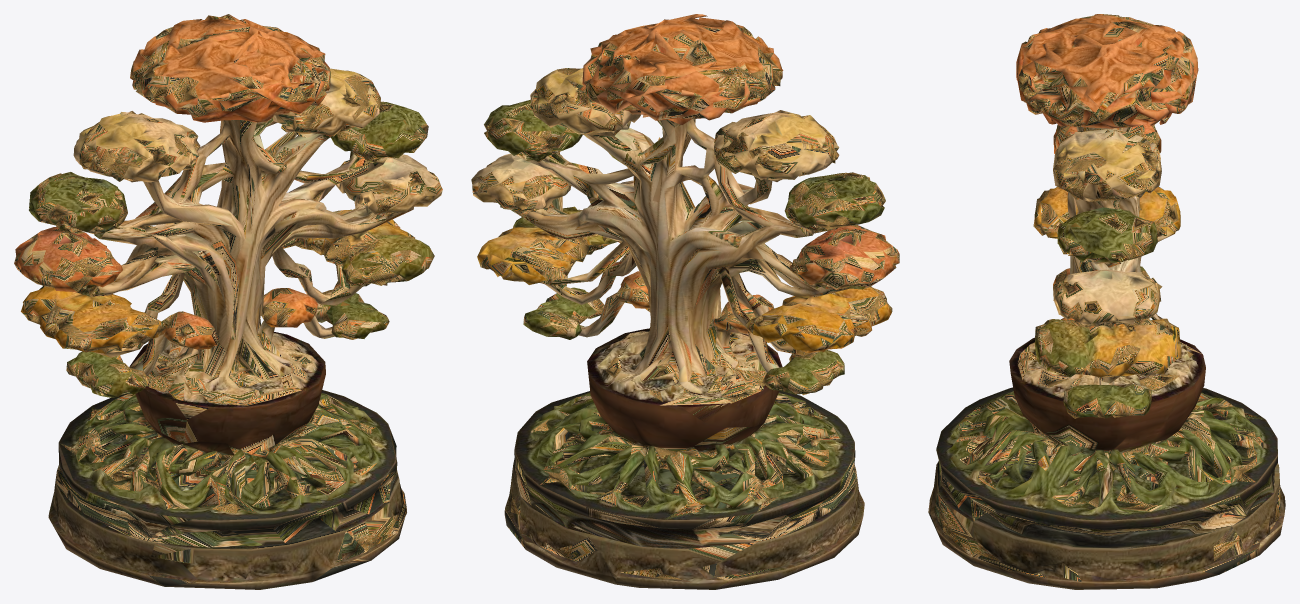
The model's file is Noodle_Tree_of_Life.glb.
3 views of the same model, side by side, from view 1: azimuth 30°, elevation 25°; view 2: azimuth 150°, elevation 25°; view 3: azimuth 270°, elevation 25° (orthographic).
Parts seen in each view (by area): view 1: Noodle_Tree_of_Life; view 2: Noodle_Tree_of_Life; view 3: Noodle_Tree_of_Life.
Part boxes in pixels (x1=…): Noodle_Tree_of_Life: x1=14, y1=14, x2=442, y2=589; Noodle_Tree_of_Life: x1=471, y1=14, x2=899, y2=589; Noodle_Tree_of_Life: x1=928, y1=14, x2=1285, y2=589.
Bounding box in the file's own units: 1.67 × 1.89 × 1.26.
1 material, 1 textured.
